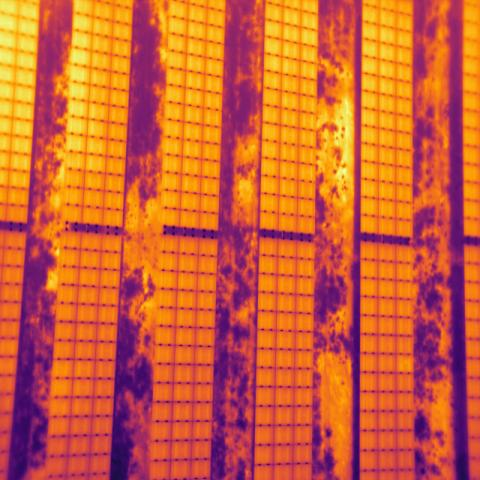fault: (396, 354, 414, 375)
